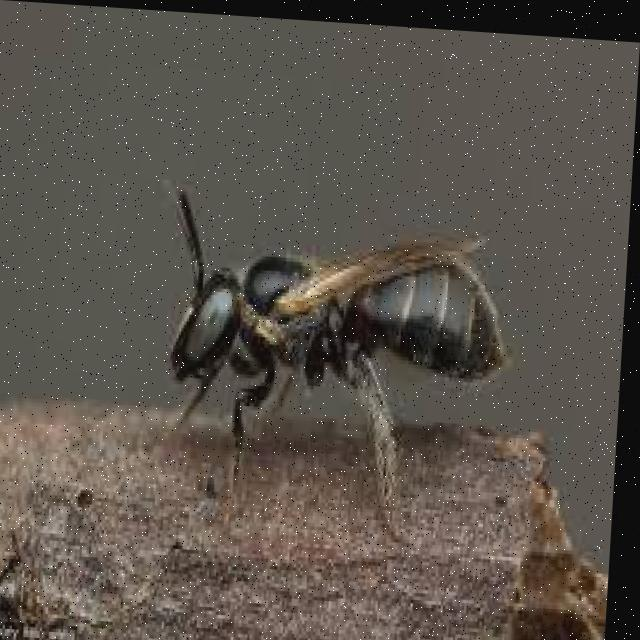Braunsapis: (141, 167, 529, 510)
